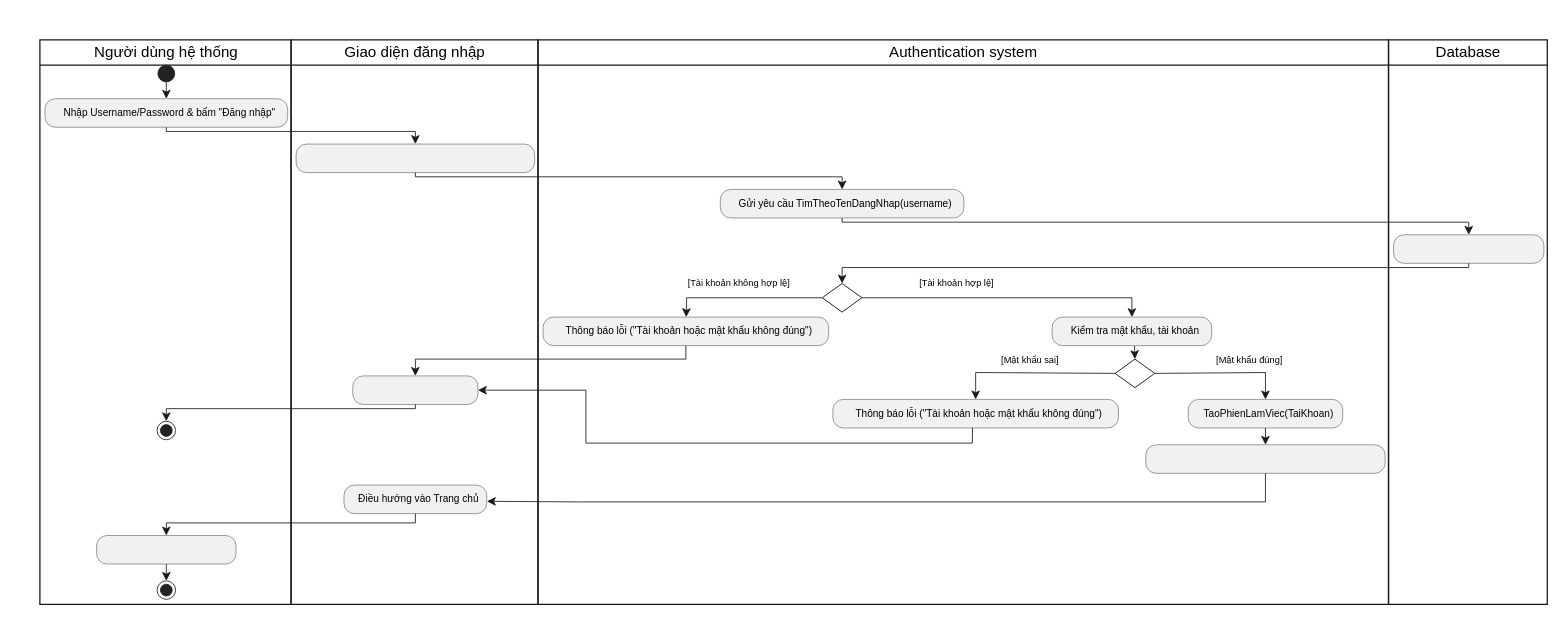
Some shapes in this 1562 by 619 pixel diagram are drawn without their labels. Here are the shapes that lost their labels. From the top down, the centre of each, then its label:
At [415,157]: "Gửi yêu cầu đăng nhập (username, password)".
At [1468,248]: "Tìm kiếm và trả về kết quả".
At [415,389]: "Hiển thị thông báo lỗi".
At [1265,458]: "Gửi XacThucThanhCong(Token/Session, Role)".
At [166,549]: "Vào màn hình Trang chủ".
